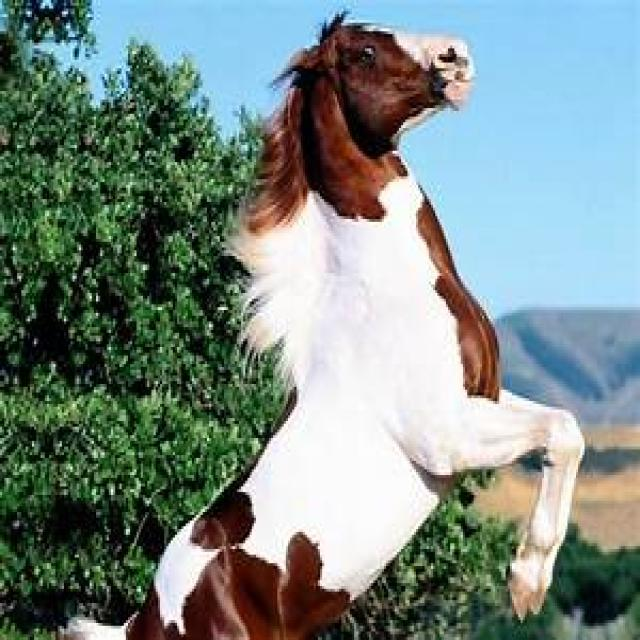horse: (73, 14, 587, 640)
